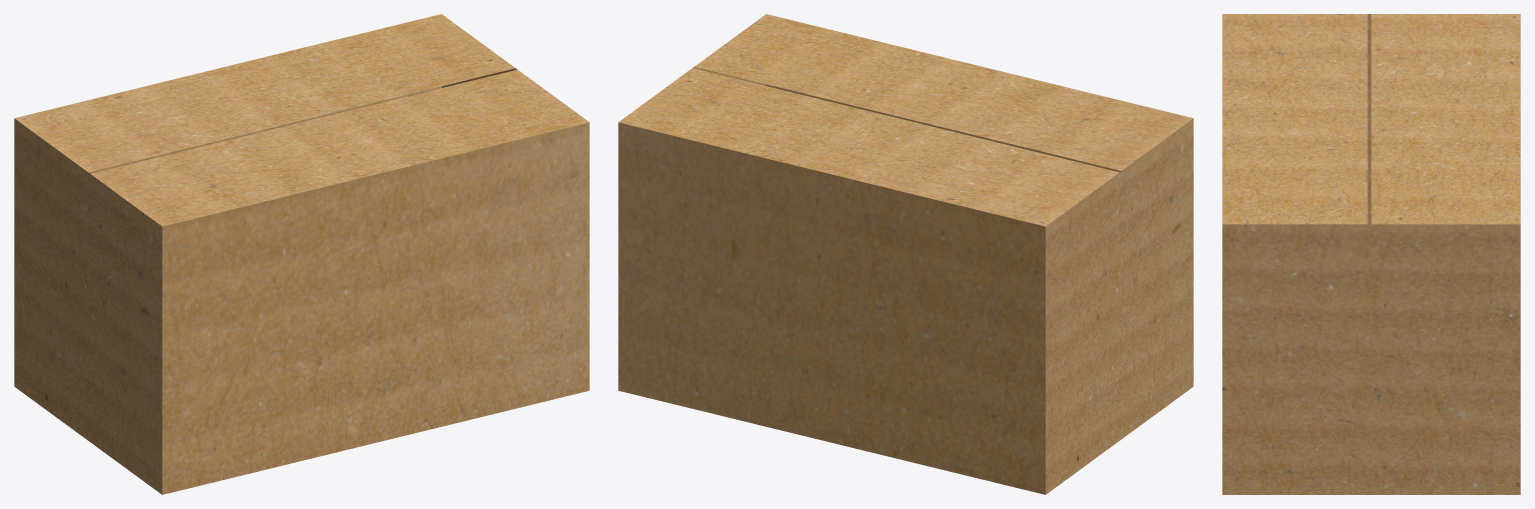
File: Cardboard02.fbx
3 views of the same model, side by side, from view 1: azimuth 30°, elevation 25°; view 2: azimuth 150°, elevation 25°; view 3: azimuth 270°, elevation 25° (orthographic).
Parts seen in each view (by area): view 1: Cardboard02; view 2: Cardboard02; view 3: Cardboard02.
Part boxes in pixels (x1,y1,x2,y2): Cardboard02: (14,14,589,494); Cardboard02: (618,14,1193,494); Cardboard02: (1222,14,1520,494).
Bounding box in the file's own units: 50 × 30 × 30.
1 material, 1 textured.
